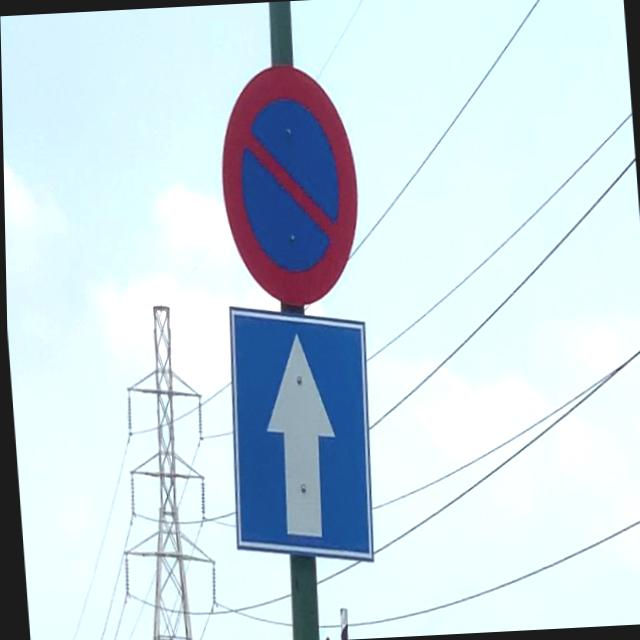Cam do xe: (213, 53, 363, 309)
Duong mot chieu: (216, 302, 385, 576)
